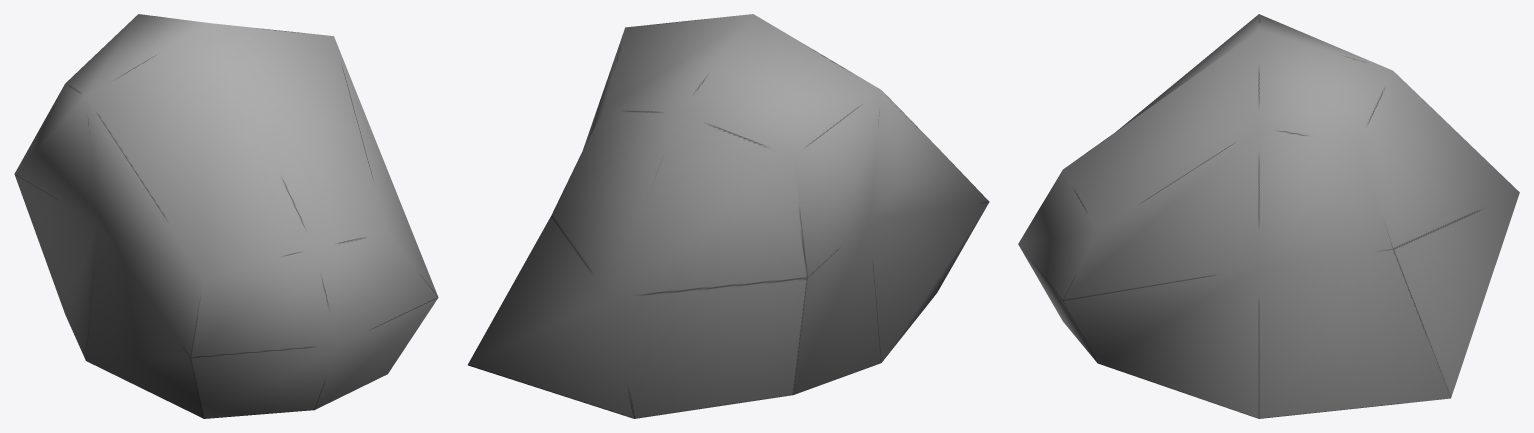
The model's file is RAWK.fbx.
The picture shows the model from 3 angles, left to right: view 1: azimuth 30°, elevation 25°; view 2: azimuth 150°, elevation 25°; view 3: azimuth 270°, elevation 25°; orthographic projection. The views are drawn at different scales.
Parts seen in each view (by area): view 1: pCube1; view 2: pCube1; view 3: pCube1.
Part boxes in pixels (<box>): pCube1: <box>14,14,438,418</box>; pCube1: <box>468,14,989,418</box>; pCube1: <box>1018,14,1519,418</box>.
Bounding box in the file's own units: 138 × 119 × 186.
